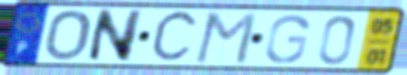0: (317, 14, 358, 67)
C: (148, 8, 202, 67)
G: (263, 13, 312, 65)
M: (192, 11, 260, 66)
N: (84, 8, 145, 64)
O: (43, 8, 94, 62)
